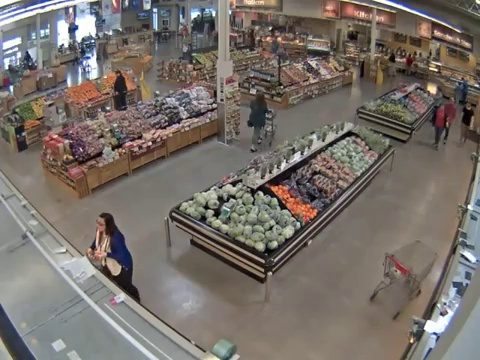face: (97, 218, 109, 233)
